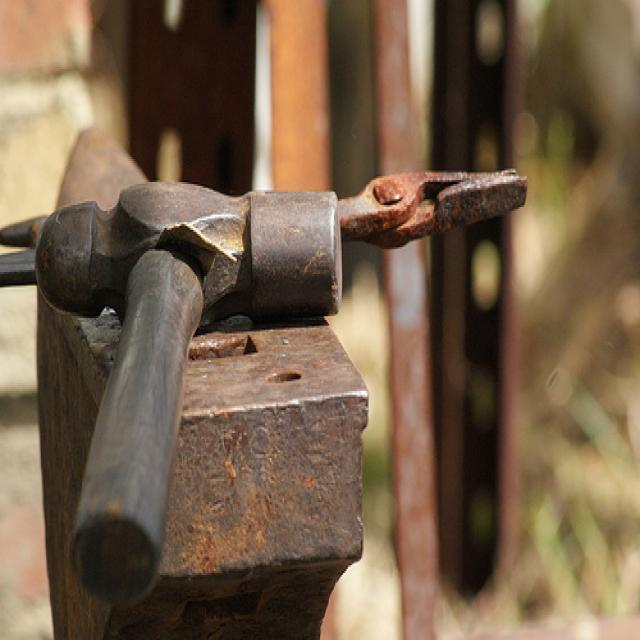hammer: (19, 157, 359, 596)
